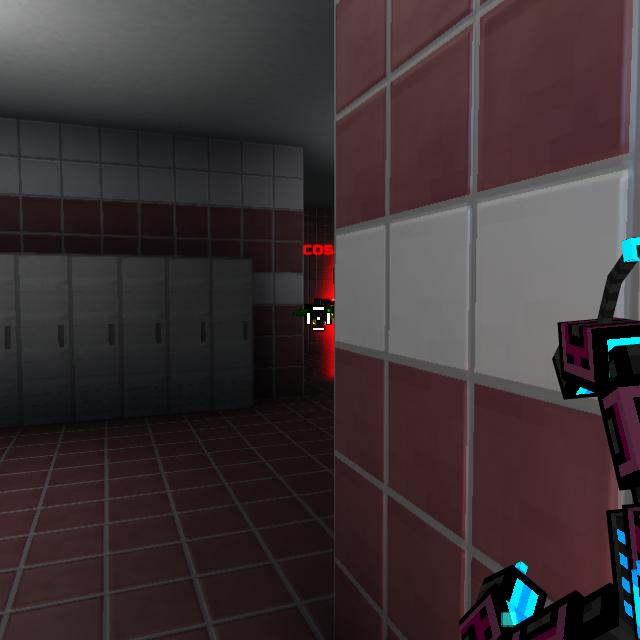Enemy: (319, 297, 334, 325)
